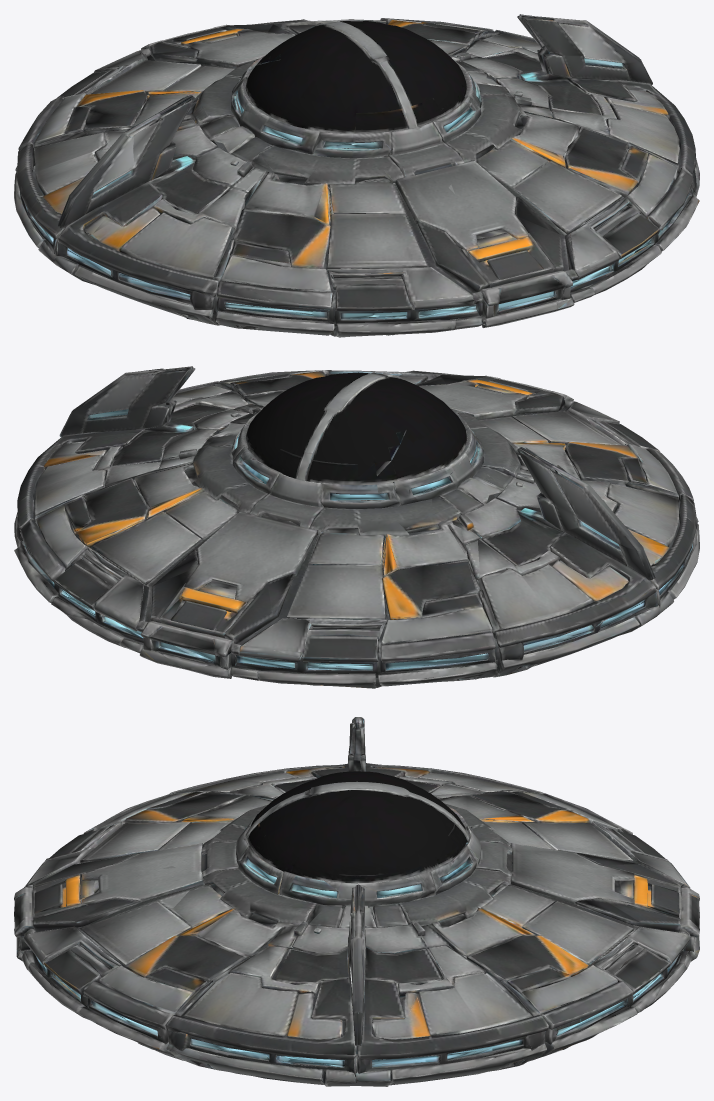
The model's file is probe_ufo.glb.
The picture shows the model from 3 angles, top to bottom: view 1: azimuth 30°, elevation 25°; view 2: azimuth 150°, elevation 25°; view 3: azimuth 270°, elevation 25°; orthographic projection.
Bounding box in the file's own units: 0.9556 × 0.4019 × 0.9526.
1 material, 1 textured.
